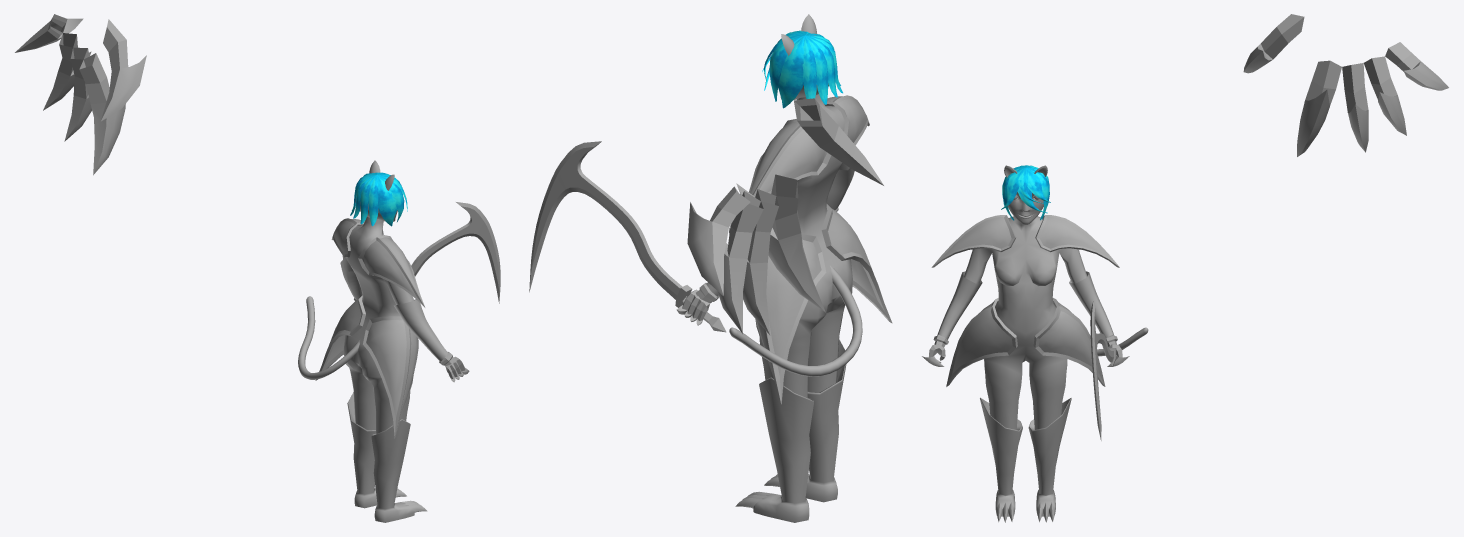
File: HealerHeroCompletedForEmail.fbx
3 renders of one model, left to right at view 1: azimuth 30°, elevation 25°; view 2: azimuth 150°, elevation 25°; view 3: azimuth 270°, elevation 25°, orthographic. The views are drawn at different scales.
Visible parts, largest first — view 1: polySurface88, polySurface48, polySurface95, polySurface94, polySurface129, polySurface74, polySurface89, polySurface87, pCylinder1, polySurface86; view 2: polySurface88, polySurface48, polySurface74, polySurface129, polySurface87, polySurface86, polySurface95, pCylinder1, polySurface94, polySurface81, polySurface89; view 3: polySurface88, polySurface48, polySurface95, polySurface87, polySurface86, polySurface94, polySurface129, polySurface89, polySurface81, polySurface74, pSphere2.
Boxes of the visible parts, x1=… form: polySurface88: x1=342, y1=216, x2=427, y2=522; polySurface48: x1=15, y1=14, x2=146, y2=175; polySurface95: x1=363, y1=316, x2=418, y2=438; polySurface94: x1=358, y1=235, x2=425, y2=307; polySurface129: x1=350, y1=172, x2=407, y2=226; polySurface74: x1=411, y1=202, x2=500, y2=303; polySurface89: x1=394, y1=299, x2=469, y2=382; polySurface87: x1=315, y1=295, x2=365, y2=380; pCylinder1: x1=298, y1=296, x2=359, y2=379; polySurface86: x1=331, y1=218, x2=364, y2=257; polySurface88: x1=735, y1=94, x2=852, y2=522; polySurface48: x1=687, y1=98, x2=883, y2=335; polySurface74: x1=529, y1=141, x2=726, y2=332; polySurface129: x1=762, y1=30, x2=842, y2=108; polySurface87: x1=755, y1=234, x2=826, y2=404; polySurface86: x1=749, y1=119, x2=831, y2=196; polySurface95: x1=821, y1=204, x2=892, y2=323; pCylinder1: x1=729, y1=265, x2=862, y2=376; polySurface94: x1=824, y1=95, x2=869, y2=145; polySurface81: x1=676, y1=282, x2=718, y2=325; polySurface89: x1=826, y1=168, x2=854, y2=211; polySurface88: x1=964, y1=216, x2=1087, y2=522; polySurface48: x1=1243, y1=14, x2=1448, y2=156; polySurface95: x1=946, y1=298, x2=1017, y2=386; polySurface87: x1=1033, y1=298, x2=1105, y2=386; polySurface86: x1=1035, y1=215, x2=1119, y2=267; polySurface94: x1=931, y1=215, x2=1016, y2=267; polySurface129: x1=1001, y1=165, x2=1050, y2=220; polySurface89: x1=922, y1=271, x2=982, y2=366; polySurface81: x1=1069, y1=271, x2=1129, y2=366; polySurface74: x1=1090, y1=301, x2=1117, y2=440; pSphere2: x1=1007, y1=192, x2=1043, y2=224.
Size of the model in its own units: 3.65 by 4.51 by 5.09.
4 materials, 1 textured.
